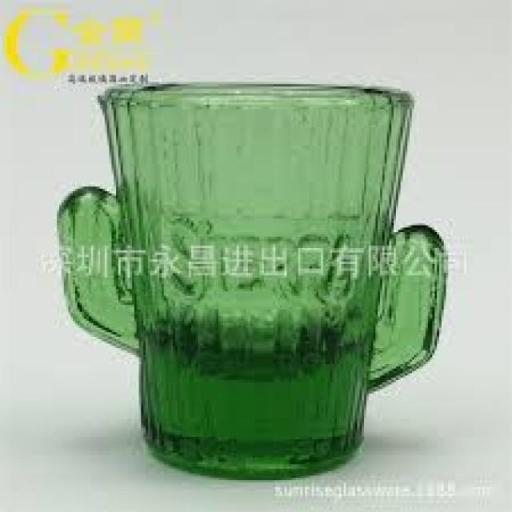glass: (41, 87, 463, 482)
